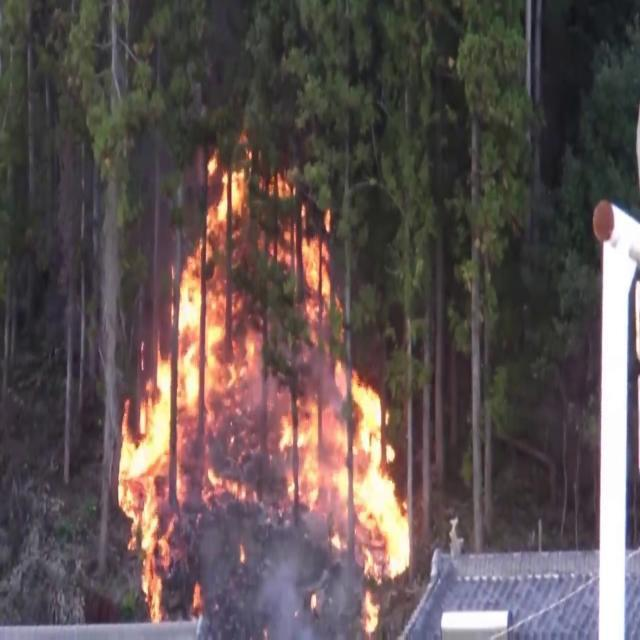Fire: (112, 143, 414, 621), (270, 218, 416, 624)
